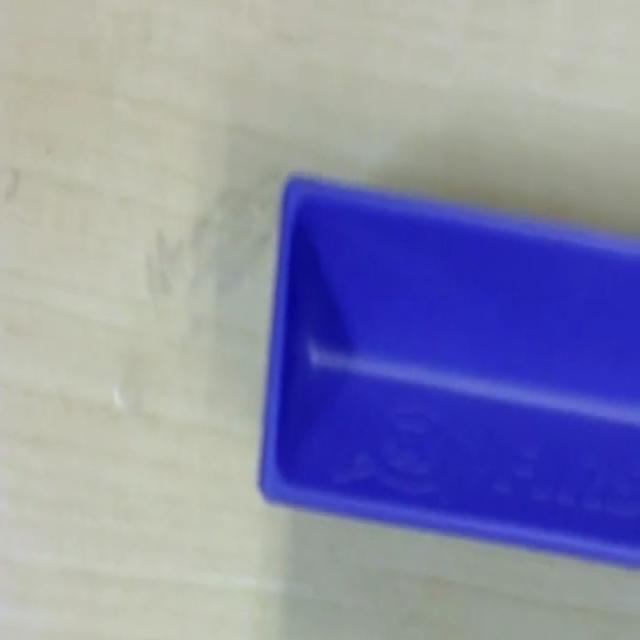blue_block: (256, 168, 639, 567)
